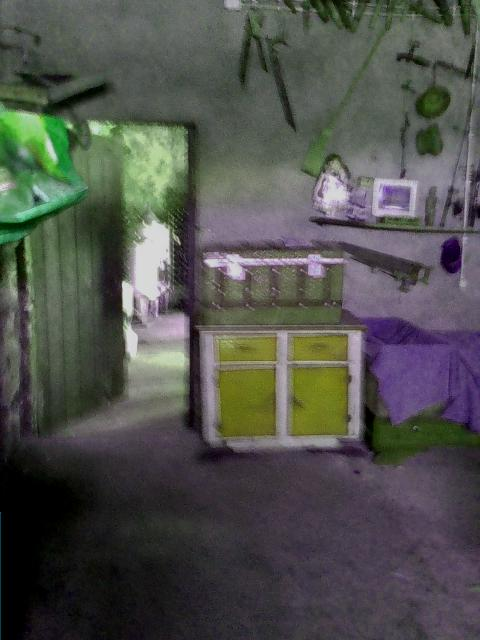semi_door: (9, 114, 204, 434)
